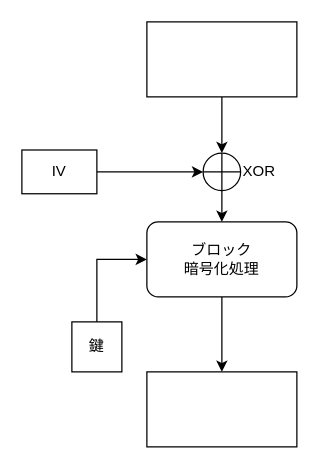
Image size: 319x469. Some labels were removed from this diagram. Each missing label, with the box of its shape:
平文 ブロック1: (146, 21, 297, 97)
暗号文 ブロック1: (146, 371, 297, 447)
